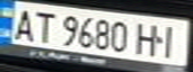0: (109, 19, 133, 54)
6: (75, 15, 96, 49)
8: (90, 16, 112, 52)
9: (57, 11, 81, 47)
A: (9, 6, 39, 42)
H: (133, 20, 163, 56)
I: (154, 21, 184, 59)
T: (30, 8, 57, 44)
